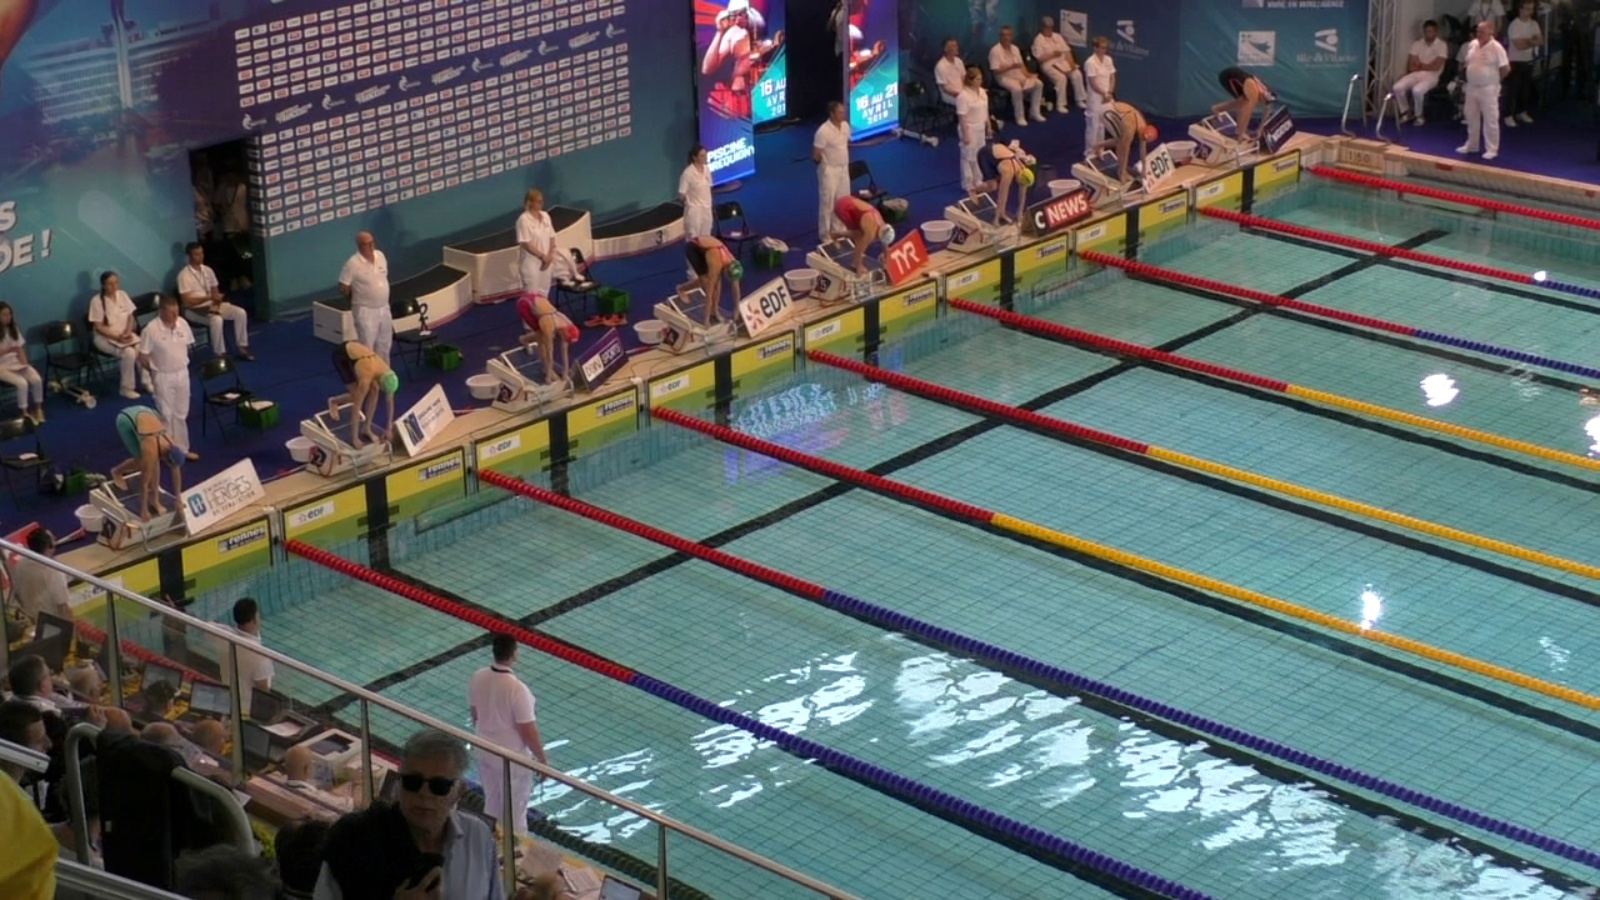swimmerwdd: (101, 403, 205, 521), (325, 336, 418, 456), (518, 295, 590, 385), (967, 144, 1038, 233), (677, 233, 741, 327), (1215, 64, 1285, 149), (834, 195, 898, 284), (1093, 100, 1158, 185)
